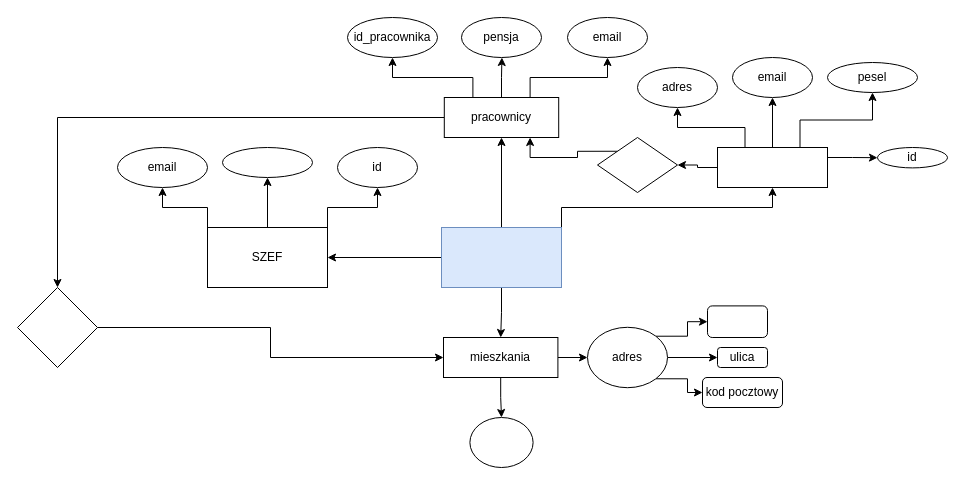
Image size: 965x485. Some labels were removed from this diagram. The shapes that lost their labels are listed below. From the top down, each one's centre as x and y in pixels, then its label:
At point (267, 162): "zlecenia".
At point (637, 164): "zlecenie".
At point (772, 167): "klient".
At point (501, 257): "Firma lokstorska".
At point (57, 327): "wyszukanie".
At point (737, 321): "nr bloku".
At point (501, 442): "wielkość".
